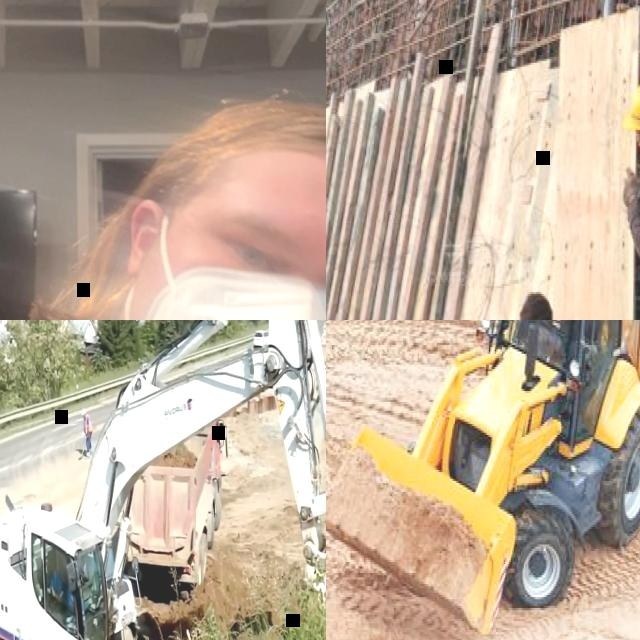Hardhat: (627, 79, 640, 132), (81, 409, 86, 415)
Mask: (118, 263, 326, 320)
NO-Hardhat: (177, 90, 326, 224), (518, 289, 553, 320)
NO-Safety Vest: (51, 577, 61, 599)
Person: (0, 87, 326, 320), (50, 558, 85, 614), (543, 320, 588, 344), (81, 408, 92, 458)
Safety Vest: (84, 413, 92, 435)
machinery: (0, 320, 326, 640), (326, 320, 640, 639), (122, 416, 228, 598)
